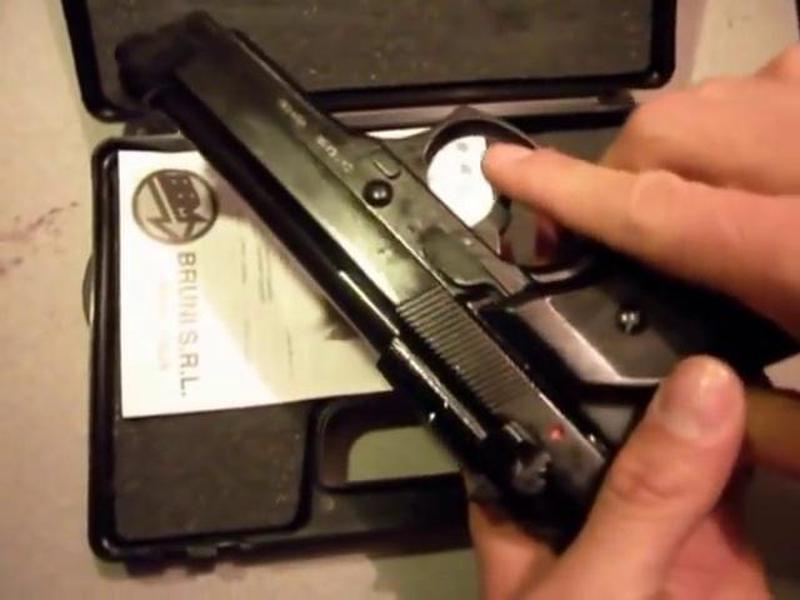Pistola: (121, 13, 800, 528)
